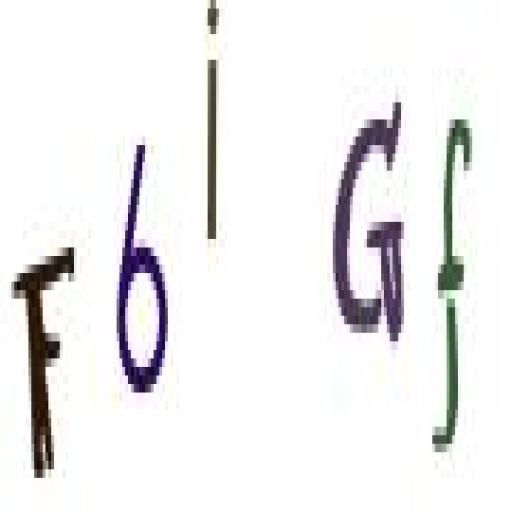6: (111, 126, 172, 408)
F: (10, 226, 80, 500)
G: (332, 78, 416, 370)
f: (429, 91, 481, 482)
i: (203, 0, 228, 260)
